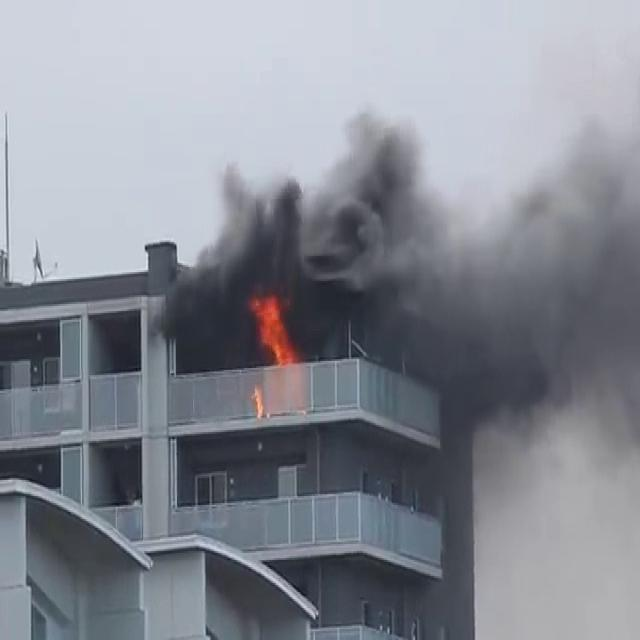Fire: (244, 282, 302, 369)
Smoke: (148, 92, 640, 412)
